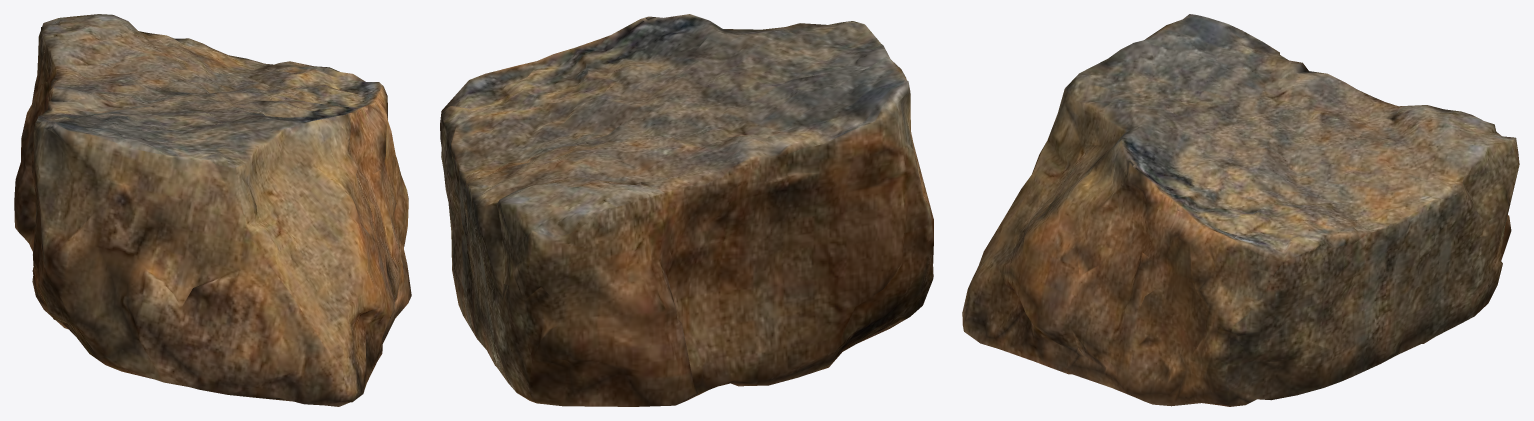
The model's file is namaqualand_boulder_03_lod1.glb.
3 renders of one model, left to right at view 1: azimuth 30°, elevation 25°; view 2: azimuth 150°, elevation 25°; view 3: azimuth 270°, elevation 25°, orthographic. The views are drawn at different scales.
Parts seen in each view (by area): view 1: boulder_03_LOD0; view 2: boulder_03_LOD0; view 3: boulder_03_LOD0.
Boxes of the visible parts, x1,y1,x2,y2 form: boulder_03_LOD0: (14, 14, 411, 406); boulder_03_LOD0: (440, 14, 933, 406); boulder_03_LOD0: (962, 14, 1519, 406).
Bounding box in the file's own units: 2.4 × 1.47 × 3.06.
Materials: 1 (1 with a texture image).
